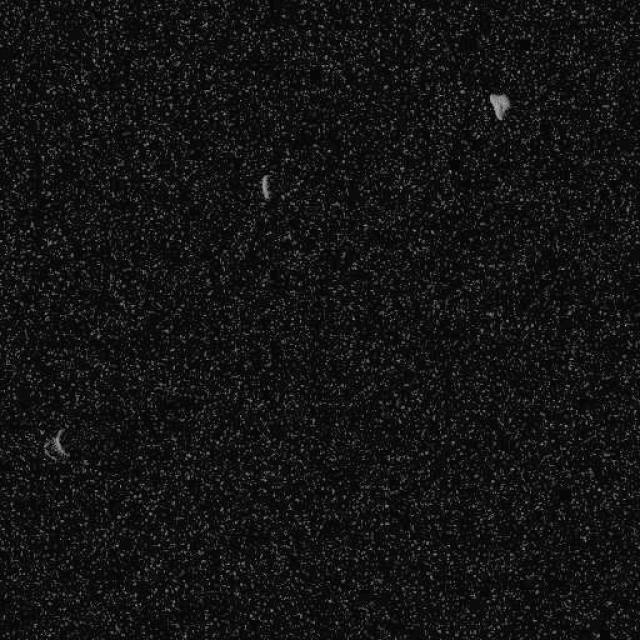D2: (42, 426, 68, 462), (488, 91, 512, 121), (258, 172, 272, 202)
